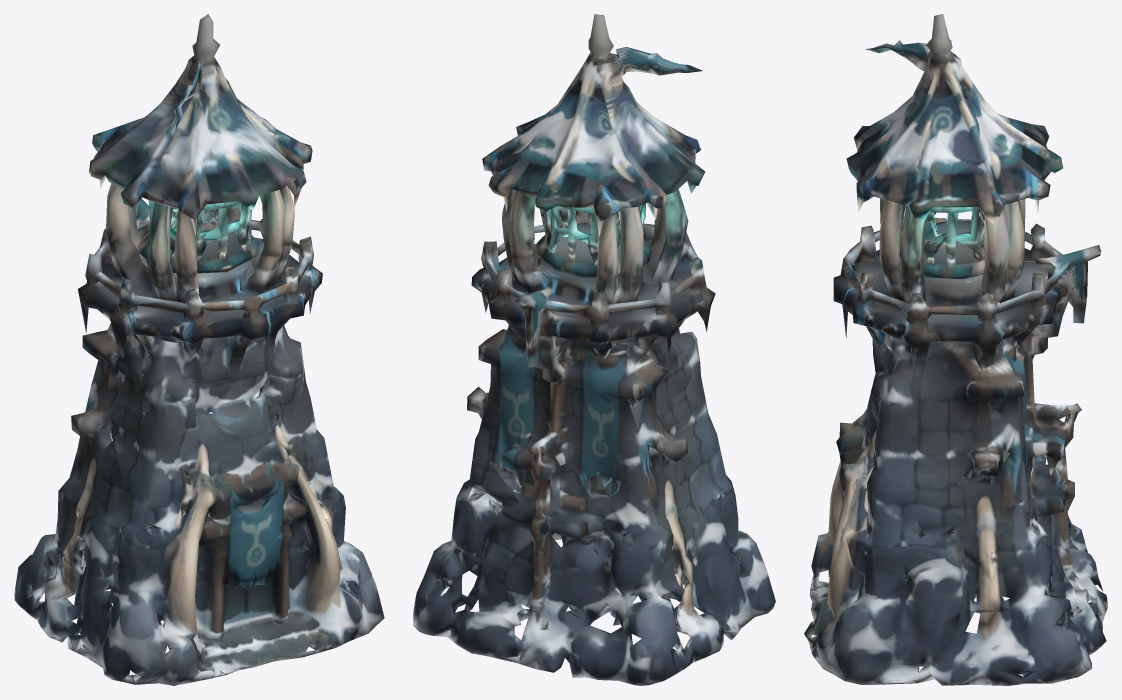
Rendered from SM_Tripo_FrostSeaLighthouse.glb.
3 views of the same model, side by side, from view 1: azimuth 30°, elevation 25°; view 2: azimuth 150°, elevation 25°; view 3: azimuth 270°, elevation 25° (orthographic). The views are drawn at different scales.
Parts seen in each view (by area): view 1: SM_Tripo_FrostSeaLighthouse_LOD0; view 2: SM_Tripo_FrostSeaLighthouse_LOD0; view 3: SM_Tripo_FrostSeaLighthouse_LOD0.
Boxes of the visible parts, x1,y1,x2,y2 form: SM_Tripo_FrostSeaLighthouse_LOD0: [14, 14, 384, 685]; SM_Tripo_FrostSeaLighthouse_LOD0: [413, 14, 775, 685]; SM_Tripo_FrostSeaLighthouse_LOD0: [804, 14, 1107, 685].
Size of the model in its own units: 6.18 by 12.78 by 5.81.
1 material, 1 textured.
